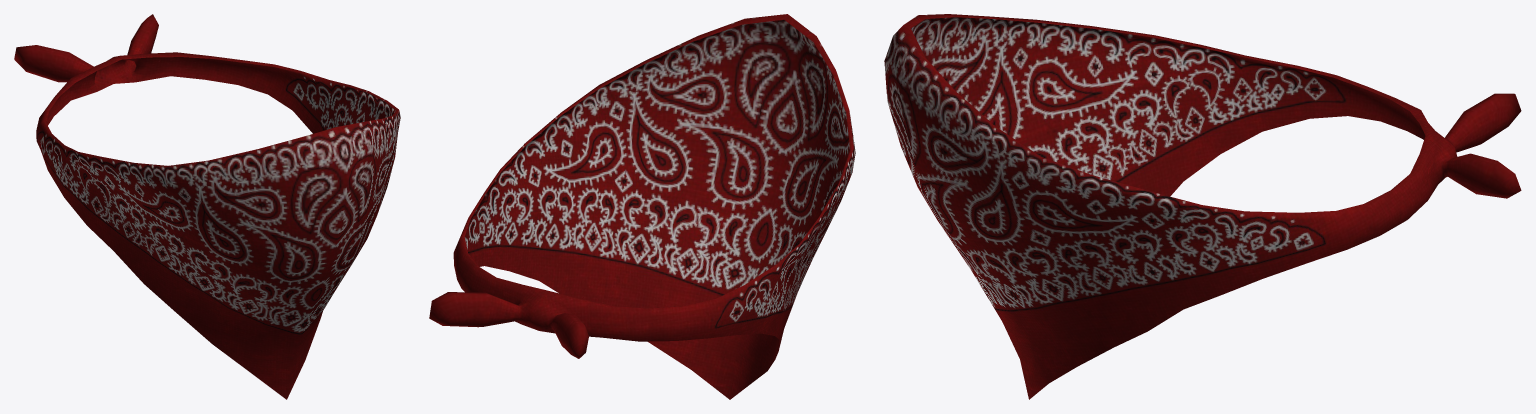
Rendered from Bandana.fbx.
3 views of the same model, side by side, from view 1: azimuth 30°, elevation 25°; view 2: azimuth 150°, elevation 25°; view 3: azimuth 270°, elevation 25° (orthographic). The views are drawn at different scales.
Parts seen in each view (by area): view 1: defaultMaterial; view 2: defaultMaterial; view 3: defaultMaterial.
Part boxes in pixels (left/top/right/bottom): defaultMaterial: left=14, top=14, right=400, bottom=399; defaultMaterial: left=429, top=14, right=855, bottom=399; defaultMaterial: left=884, top=14, right=1521, bottom=399.
Bounding box in the file's own units: 119 × 130 × 200.
